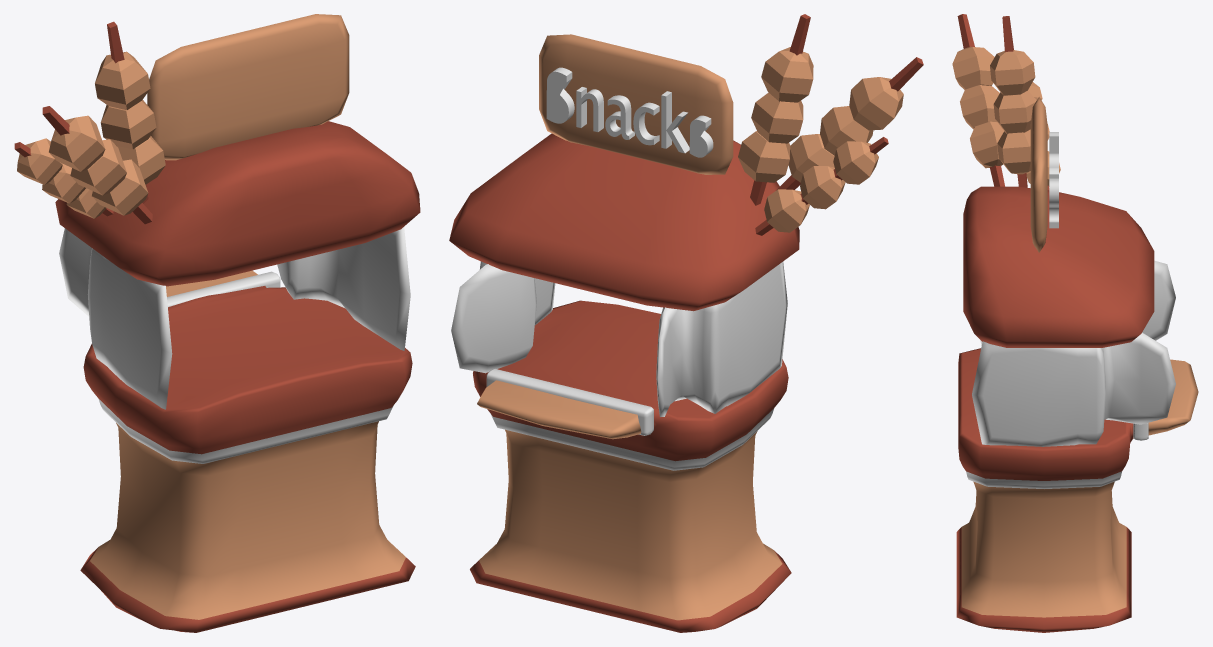
File: Shop.fbx
3 views of the same model, side by side, from view 1: azimuth 30°, elevation 25°; view 2: azimuth 150°, elevation 25°; view 3: azimuth 270°, elevation 25° (orthographic). The views are drawn at different scales.
Visible parts, largest first — view 1: pCube1, pCube2, pCube3, pCube6, pCube5, pSphere1 (×3), pSphere2 (×3), pSphere3 (×3), pCube7, pCube4; view 2: pCube1, pCube2, pCube3, pCube6, pCube5, pSphere1 (×3), typeMesh1, pSphere2 (×3), pSphere3 (×3), pCube7, pCube4 (×2); view 3: pCube1, pCube2, pCube5, pSphere1 (×2), pSphere2 (×2), pCube3, pSphere3 (×2), pCube6, pCube4 (×2), typeMesh1.
Part boxes in pixels (x1,y1,x2,y2): pCube1: (80, 270, 415, 632); pCube2: (55, 121, 420, 286); pCube3: (147, 14, 349, 160); pCube6: (59, 228, 172, 409); pCube5: (277, 227, 410, 350); pSphere1 (×3): (17, 51, 150, 184); pSphere2 (×3): (42, 100, 156, 203); pSphere3 (×3): (66, 136, 165, 218); pCube7: (167, 271, 280, 306); pCube4: (42, 106, 152, 224); pCube1: (470, 300, 791, 632); pCube2: (449, 133, 799, 311); pCube3: (539, 34, 733, 174); pCube6: (656, 261, 787, 416); pCube5: (451, 261, 555, 373); pSphere1 (×3): (761, 47, 903, 184); typeMesh1: (546, 67, 713, 157); pSphere2 (×3): (751, 92, 873, 209); pSphere3 (×3): (738, 131, 834, 232); pCube7: (486, 369, 653, 435); pCube4 (×2): (750, 14, 923, 205); pCube1: (956, 348, 1198, 632); pCube2: (963, 186, 1154, 347); pCube5: (972, 332, 1175, 446); pSphere1 (×2): (952, 46, 1035, 95); pSphere2 (×2): (960, 85, 1036, 133); pCube3: (1030, 97, 1047, 252); pSphere3 (×2): (970, 121, 1030, 174); pCube6: (980, 260, 1175, 345); pCube4 (×2): (957, 14, 1027, 187); typeMesh1: (1049, 132, 1058, 228).
Bounding box in the file's own units: 42.99 × 62.05 × 27.58.
